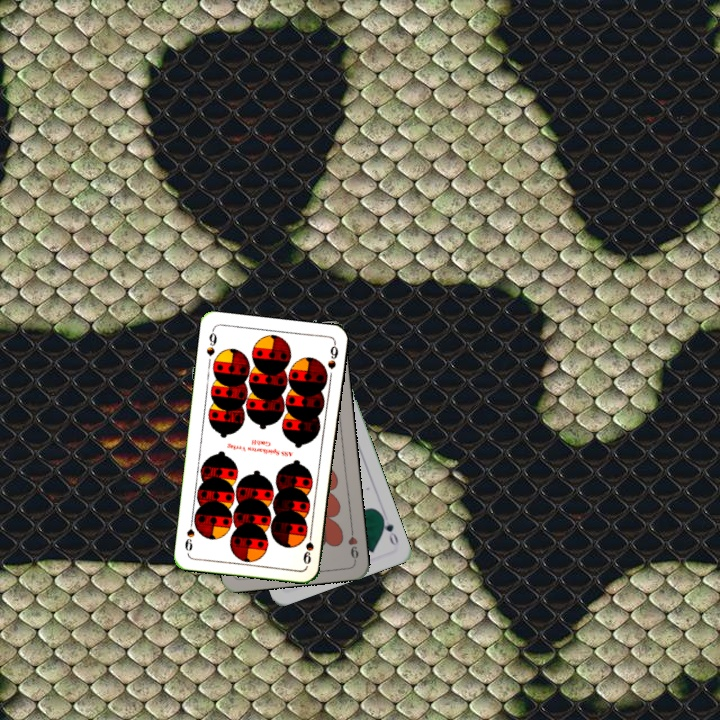GO: (377, 510, 401, 549)
H9: (344, 523, 361, 563)
S9: (299, 527, 316, 567), (202, 326, 220, 359)
